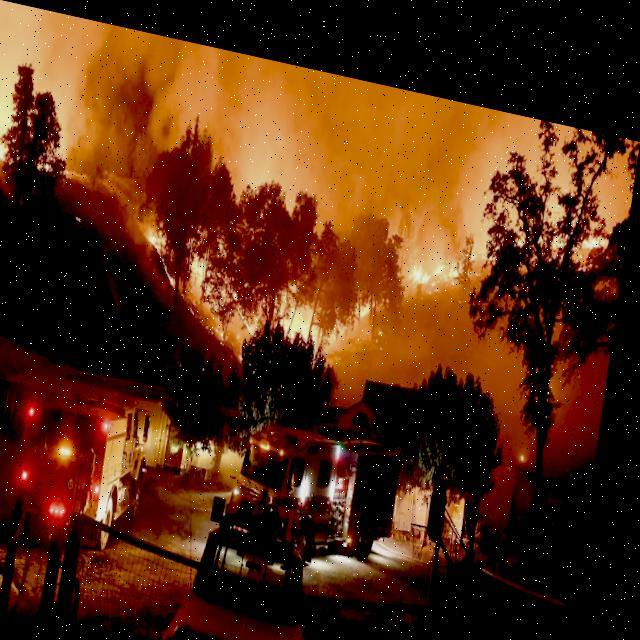Fire: (168, 144, 501, 381), (0, 76, 84, 181)
